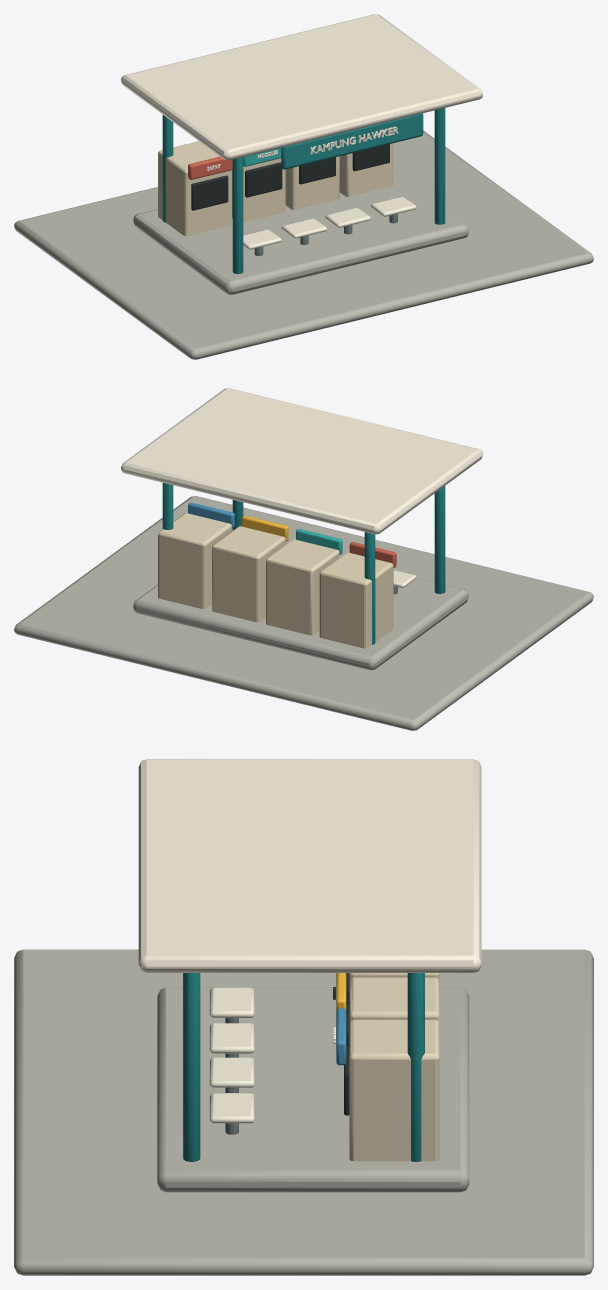
Rendered from hawker-v2.glb.
3 renders of one model, top to bottom at view 1: azimuth 30°, elevation 25°; view 2: azimuth 150°, elevation 25°; view 3: azimuth 270°, elevation 25°, orthographic. The views are drawn at different scales.
Visible parts, largest first — view 1: Ground, HAWKER CENTRE KIT · Chalk, HAWKER CENTRE KIT · Concrete, HAWKER CENTRE KIT · Warm plaster, HAWKER CENTRE KIT · Deep teal, HAWKER CENTRE KIT · Ink, HAWKER CENTRE KIT · Terracotta; view 2: Ground, HAWKER CENTRE KIT · Chalk, HAWKER CENTRE KIT · Warm plaster, HAWKER CENTRE KIT · Concrete, HAWKER CENTRE KIT · Deep teal, HAWKER CENTRE KIT · Signal yellow, HAWKER CENTRE KIT · Utility blue, HAWKER CENTRE KIT · Weathered teal, HAWKER CENTRE KIT · Terracotta; view 3: Ground, HAWKER CENTRE KIT · Chalk, HAWKER CENTRE KIT · Concrete, HAWKER CENTRE KIT · Warm plaster, HAWKER CENTRE KIT · Deep teal, HAWKER CENTRE KIT · Ink.
Part boxes in pixels (x1,y1,x2,y2): Ground: (14,130,593,359); HAWKER CENTRE KIT · Chalk: (121,14,482,249); HAWKER CENTRE KIT · Concrete: (133,172,468,294); HAWKER CENTRE KIT · Warm plaster: (158,141,393,236); HAWKER CENTRE KIT · Deep teal: (162,108,445,273); HAWKER CENTRE KIT · Ink: (191,144,389,210); HAWKER CENTRE KIT · Terracotta: (188,156,232,179); Ground: (14,496,593,730); HAWKER CENTRE KIT · Chalk: (121,388,482,587); HAWKER CENTRE KIT · Warm plaster: (158,513,393,648); HAWKER CENTRE KIT · Concrete: (133,578,468,670); HAWKER CENTRE KIT · Deep teal: (162,483,445,644); HAWKER CENTRE KIT · Signal yellow: (242,515,288,541); HAWKER CENTRE KIT · Utility blue: (188,502,234,528); HAWKER CENTRE KIT · Weathered teal: (296,529,342,554); HAWKER CENTRE KIT · Terracotta: (349,542,396,567); Ground: (14,949,593,1275); HAWKER CENTRE KIT · Chalk: (138,759,481,1123); HAWKER CENTRE KIT · Concrete: (157,987,469,1192); HAWKER CENTRE KIT · Warm plaster: (349,973,439,1161); HAWKER CENTRE KIT · Deep teal: (183,973,424,1161); HAWKER CENTRE KIT · Ink: (333,973,349,1115).
Bounding box in the file's own units: 12 × 4.66 × 9.3.
Materials: 1 (1 with a texture image).
